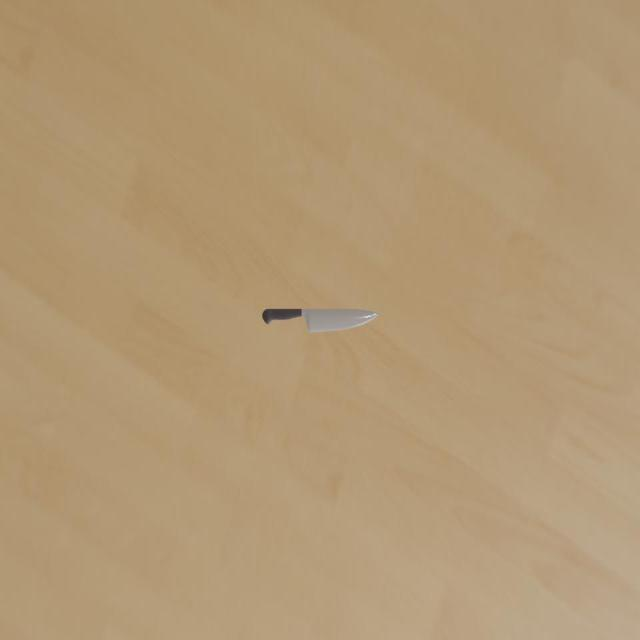knife: (262, 308, 303, 324)
